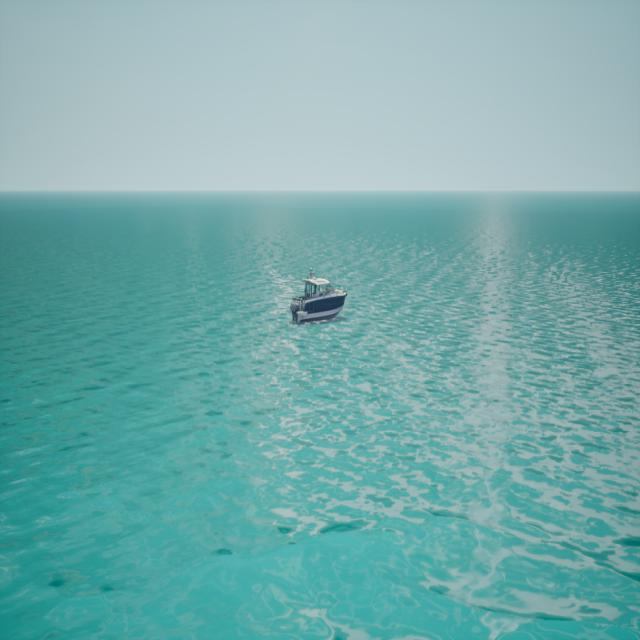ship: (289, 266, 349, 325)
